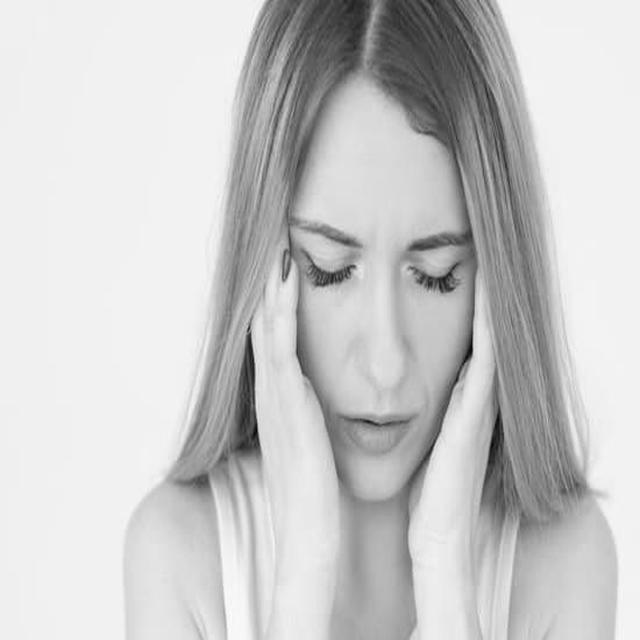Sadness: (297, 106, 475, 504)
